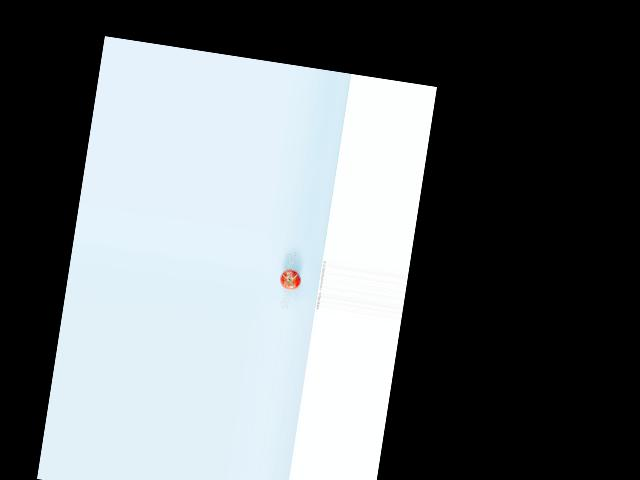tomato: (279, 268, 303, 291)
